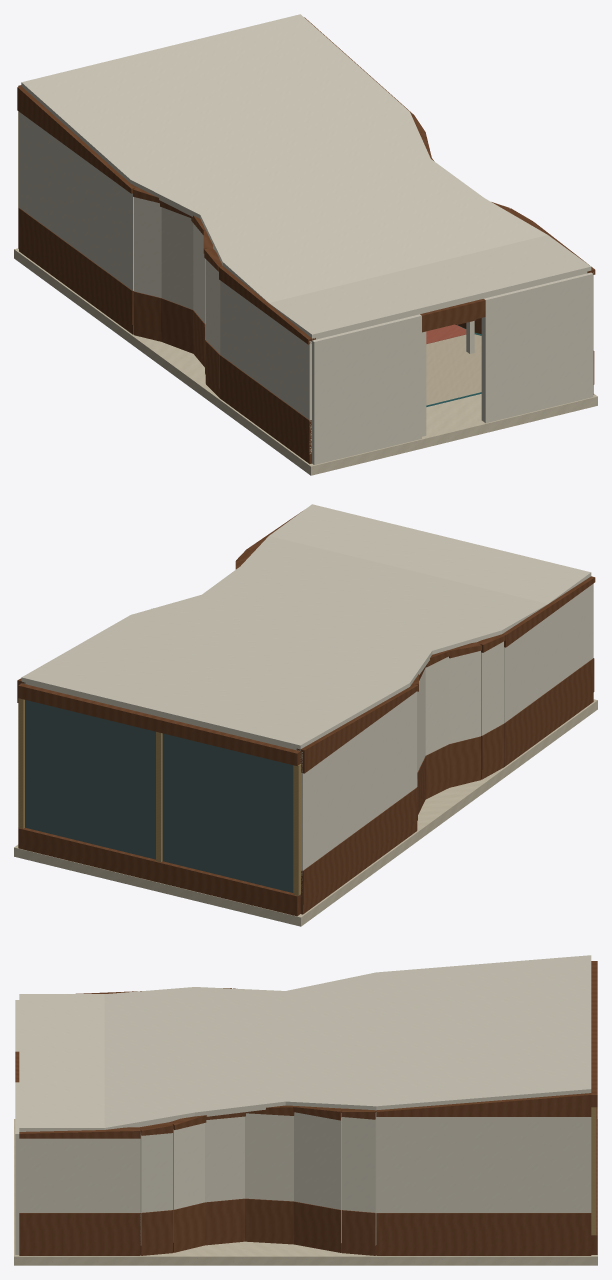
Rendered from shell.glb.
3 views of the same model, one above another, from view 1: azimuth 30°, elevation 25°; view 2: azimuth 150°, elevation 25°; view 3: azimuth 270°, elevation 25° (orthographic).
Parts seen in each view (by area): view 1: NG_Runtime_ivory_enamel, NG_Runtime_warm_walnut, NG_Runtime_warm_stone, NG_Runtime_oatmeal_weave; view 2: NG_Runtime_ivory_enamel, NG_Runtime_NG_SourceDirectionalPrivacy_NOT_RUNTIME_ACCEPTED, NG_Runtime_warm_walnut, NG_Runtime_warm_stone, NG_Runtime_champagne_metal; view 3: NG_Runtime_ivory_enamel, NG_Runtime_warm_walnut, NG_Runtime_warm_stone, NG_Runtime_champagne_metal.
Boxes of the visible parts, x1=… form: NG_Runtime_ivory_enamel: x1=19, y1=14, x2=593, y2=464; NG_Runtime_warm_walnut: x1=17, y1=17, x2=595, y2=463; NG_Runtime_warm_stone: x1=14, y1=248, x2=597, y2=475; NG_Runtime_oatmeal_weave: x1=213, y1=248, x2=481, y2=405; NG_Runtime_ivory_enamel: x1=21, y1=504, x2=593, y2=885; NG_Runtime_NG_SourceDirectionalPrivacy_NOT_RUNTIME_ACCEPTED: x1=25, y1=700, x2=293, y2=892; NG_Runtime_warm_walnut: x1=17, y1=511, x2=595, y2=916; NG_Runtime_warm_stone: x1=14, y1=699, x2=597, y2=926; NG_Runtime_champagne_metal: x1=18, y1=698, x2=300, y2=895; NG_Runtime_ivory_enamel: x1=15, y1=955, x2=591, y2=1254; NG_Runtime_warm_walnut: x1=15, y1=961, x2=597, y2=1255; NG_Runtime_warm_stone: x1=14, y1=1119, x2=597, y2=1265; NG_Runtime_champagne_metal: x1=591, y1=1107, x2=596, y2=1235.
Size of the model in its own units: 7.2 by 4.26 by 12.9.
Materials: 9 (7 with a texture image).
